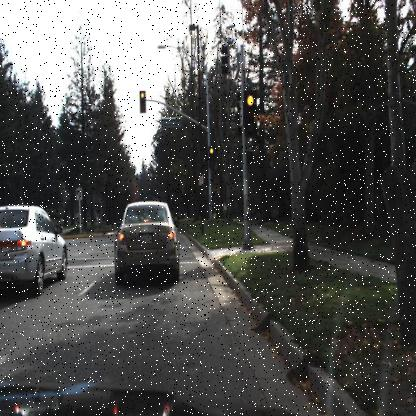car: (0, 202, 70, 296), (113, 200, 184, 286)
trafficLight-Red: (242, 88, 256, 139), (207, 144, 216, 170), (138, 89, 146, 113)
